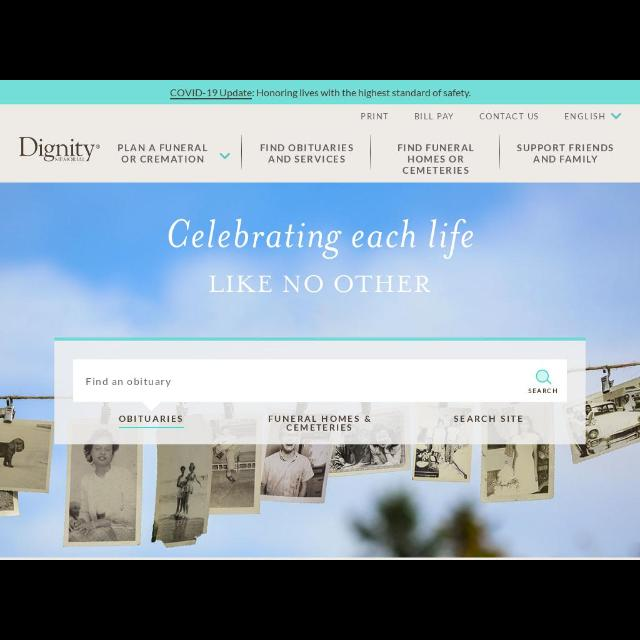backgroundimage: (1, 183, 639, 557)
icon: (535, 369, 551, 385), (219, 152, 231, 160), (611, 112, 621, 120)
image: (19, 136, 100, 166)
input: (74, 359, 566, 401)
panel: (54, 339, 586, 445)
spinner: (113, 141, 239, 171), (560, 109, 624, 127)
text: (170, 88, 470, 100), (258, 142, 354, 166), (398, 144, 474, 174), (516, 144, 614, 166), (270, 414, 372, 434), (117, 144, 207, 164), (85, 377, 172, 389), (118, 414, 184, 426), (452, 414, 524, 424), (478, 111, 540, 121), (413, 112, 453, 122), (526, 386, 560, 394), (562, 114, 606, 120), (360, 113, 390, 121)
toolbar: (1, 105, 639, 181)
